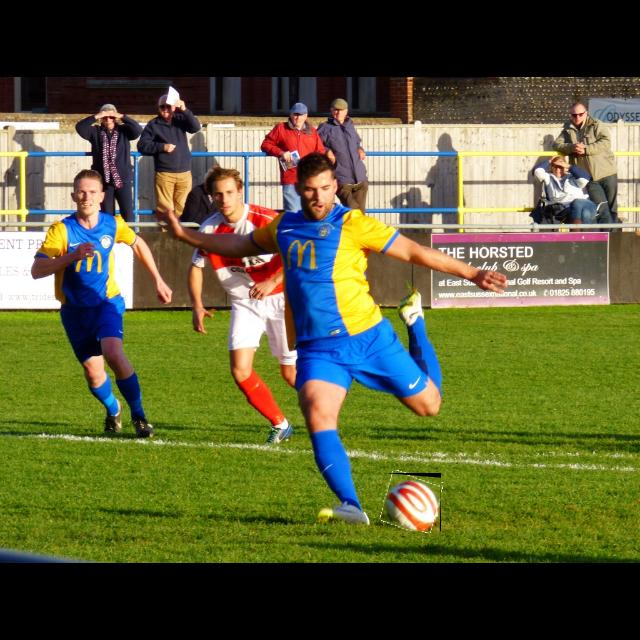Football: (383, 473, 441, 531)
